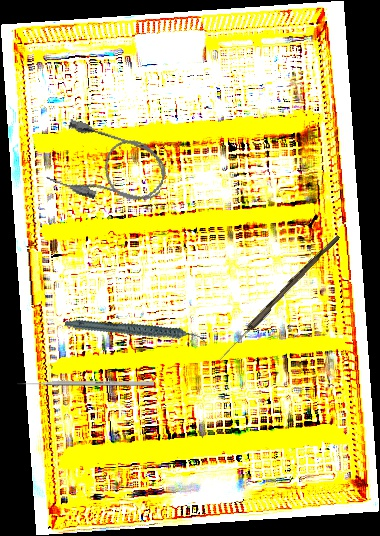Cannula: (44, 117, 173, 217)
Handpiece: (63, 291, 207, 373)
Pusher: (17, 381, 154, 386)
Surgical Spoon: (216, 232, 341, 364)
